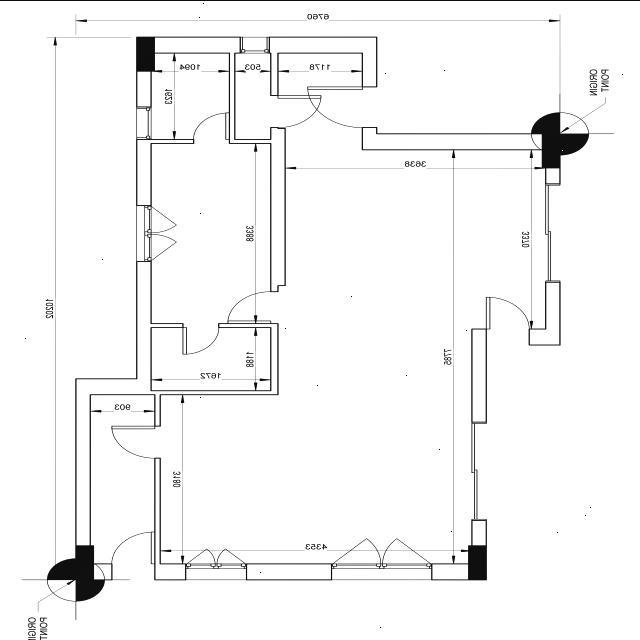Column: (75, 543, 95, 582), (468, 544, 489, 580), (136, 36, 156, 71), (542, 130, 560, 168)
Door: (306, 85, 380, 127), (110, 530, 156, 580), (485, 294, 530, 344), (268, 93, 324, 129), (111, 423, 162, 458), (227, 290, 279, 322), (192, 111, 230, 143), (182, 322, 220, 354)
Sliding Door: (543, 182, 563, 282), (470, 420, 488, 520)
Window: (330, 538, 432, 580), (135, 204, 177, 262), (185, 547, 249, 580), (135, 106, 153, 140), (240, 34, 270, 52)
